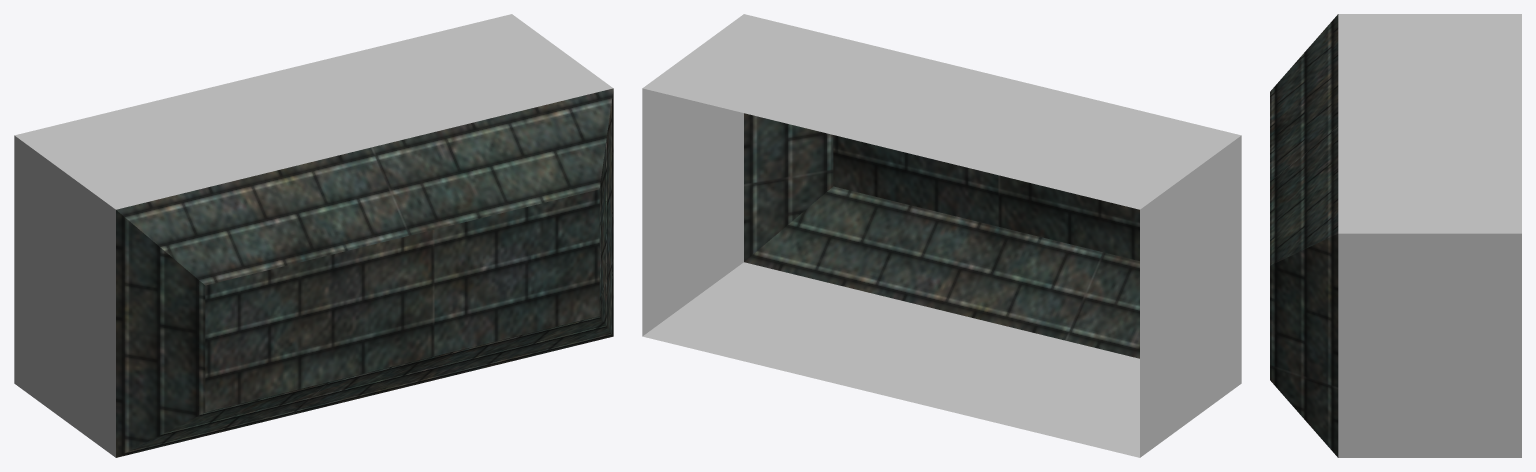
The model's file is house96long_wtf.obj.
The picture shows the model from 3 angles, left to right: view 1: azimuth 30°, elevation 25°; view 2: azimuth 150°, elevation 25°; view 3: azimuth 270°, elevation 25°; orthographic projection. The views are drawn at different scales.
Visible parts, largest first — view 1: group3, group4; view 2: group4, group3; view 3: group4, group3.
Part boxes in pixels (box(x1,y1,x2,y2)): group3: box(116, 88, 613, 457); group4: box(14, 14, 612, 457); group4: box(642, 14, 1241, 457); group3: box(744, 113, 1139, 358); group4: box(1338, 14, 1521, 457); group3: box(1270, 14, 1338, 457).
Bounding box in the file's own units: 660 × 315 × 320.
